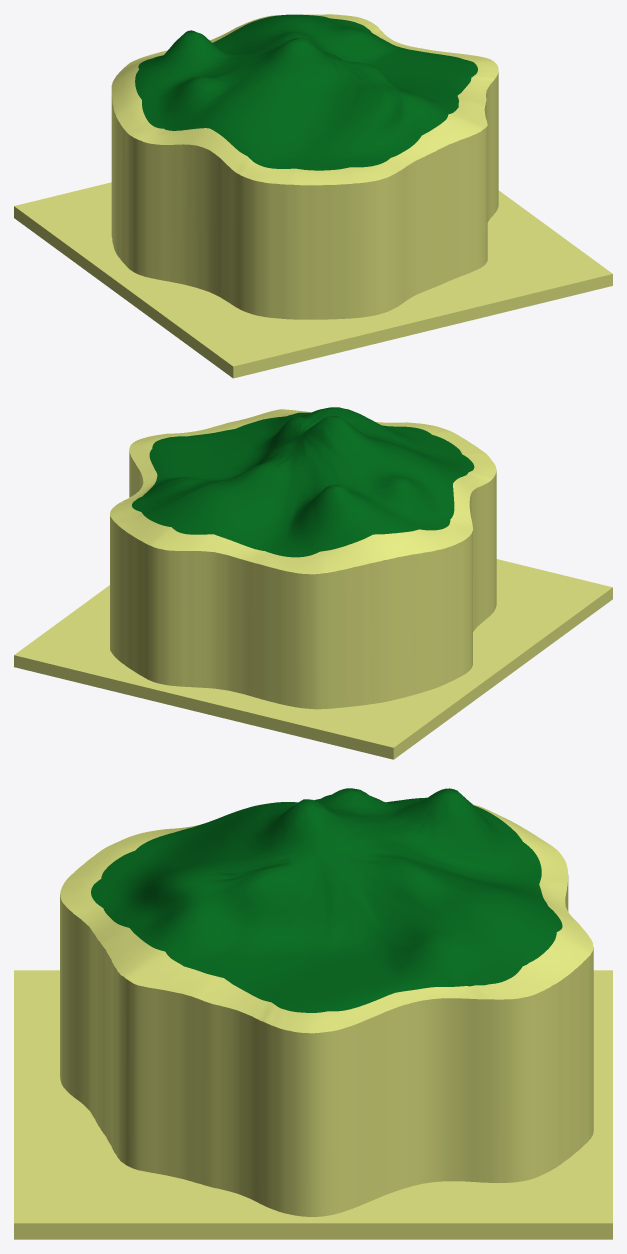
File: Wild_Big_Island_02.fbx
3 renders of one model, top to bottom at view 1: azimuth 30°, elevation 25°; view 2: azimuth 150°, elevation 25°; view 3: azimuth 270°, elevation 25°, orthographic. The views are drawn at different scales.
Visible parts, largest first — view 1: Wild_Big_Island_02; view 2: Wild_Big_Island_02; view 3: Wild_Big_Island_02.
Boxes of the visible parts, bbox=[...] form: Wild_Big_Island_02: bbox=[14, 14, 612, 378]; Wild_Big_Island_02: bbox=[14, 407, 612, 759]; Wild_Big_Island_02: bbox=[14, 788, 612, 1239].
Size of the model in its own units: 136 by 74.87 by 136.
